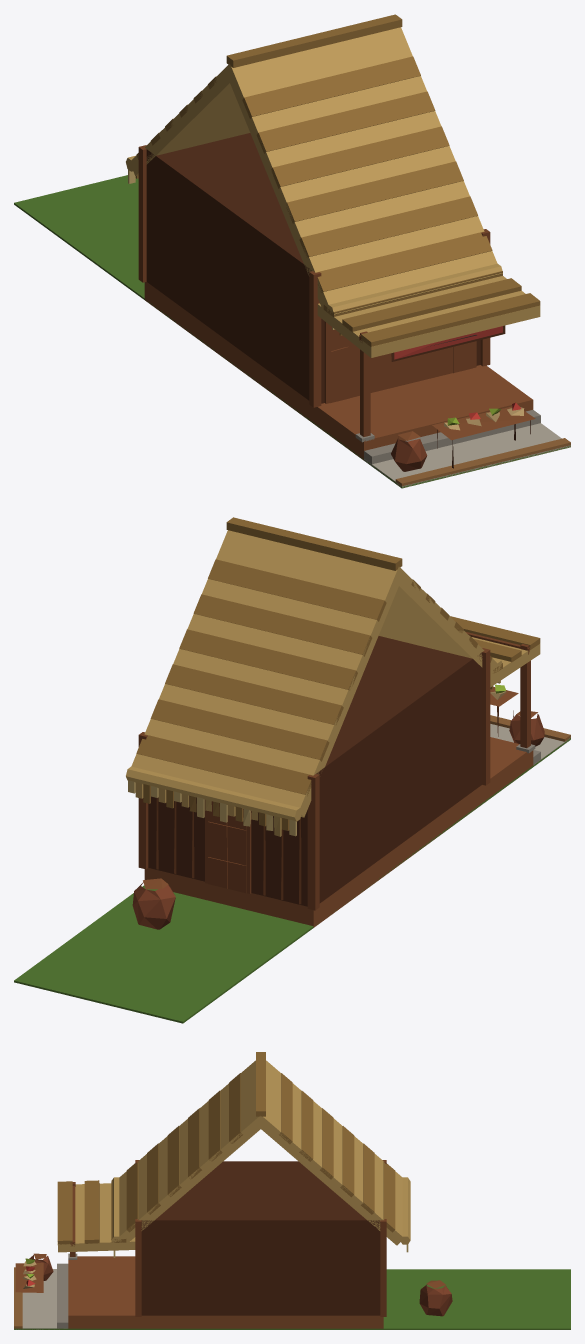
The model's file is bay1_mid.glb.
The picture shows the model from 3 angles, top to bottom: view 1: azimuth 30°, elevation 25°; view 2: azimuth 150°, elevation 25°; view 3: azimuth 270°, elevation 25°; orthographic projection. The views are drawn at different scales.
Parts seen in each view (by area): view 1: body; view 2: body; view 3: body.
Part boxes in pixels (x1=…): body: x1=14, y1=14, x2=570, y2=488; body: x1=14, y1=517, x2=570, y2=1023; body: x1=14, y1=1052, x2=570, y2=1329.
Size of the model in its own units: 4.18 by 6.89 by 15.9.
